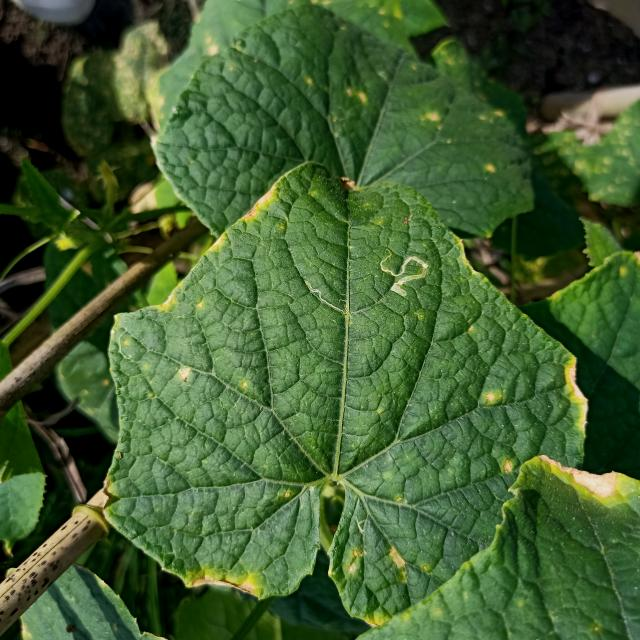disease_cucumber: (346, 536, 412, 580), (152, 287, 204, 318), (173, 364, 194, 384), (484, 389, 503, 409), (500, 456, 517, 475)
